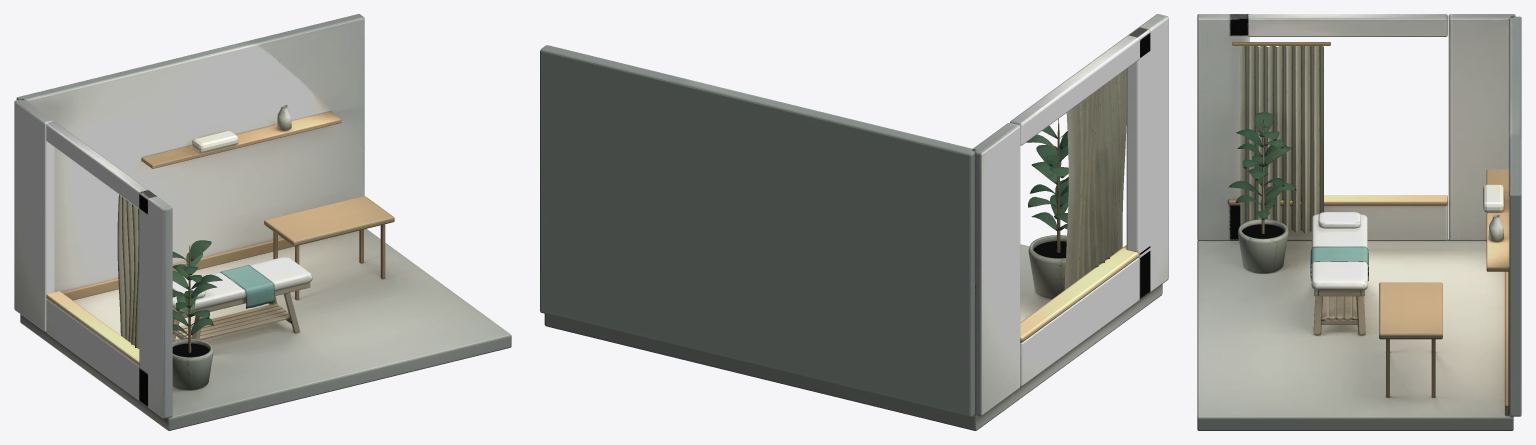
File: sala.high.glb
The picture shows the model from 3 angles, left to right: view 1: azimuth 30°, elevation 25°; view 2: azimuth 150°, elevation 25°; view 3: azimuth 270°, elevation 25°; orthographic projection. The views are drawn at different scales.
Visible parts, largest first — view 1: Sala_camilla, Cortina_lino; view 2: Sala_camilla, Cortina_lino; view 3: Sala_camilla, Cortina_lino.
Part boxes in pixels (box(x1,y1,x2,y2)): Sala_camilla: box(14, 14, 511, 430); Cortina_lino: box(117, 194, 139, 348); Sala_camilla: box(540, 14, 1168, 430); Cortina_lino: box(1064, 69, 1126, 289); Sala_camilla: box(1197, 14, 1521, 430); Cortina_lino: box(1240, 46, 1323, 233).
Bounding box in the file's own units: 4.87 × 2.98 × 3.69.
Materials: 1 (1 with a texture image).
